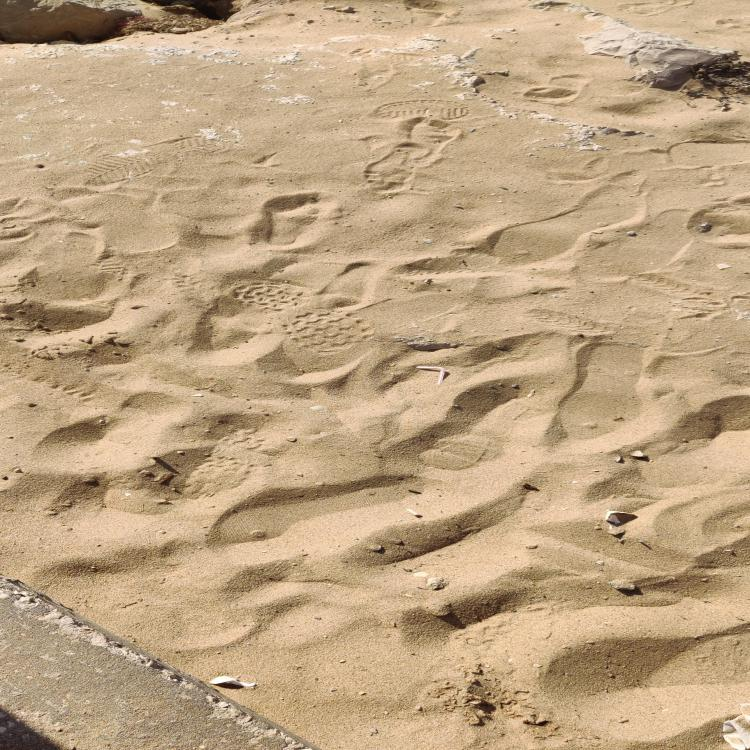Plastic straw: (417, 366, 445, 383)
Unlabeled litter: (605, 510, 635, 530), (210, 676, 254, 686)
